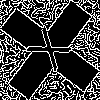X: (25, 25, 82, 79)
